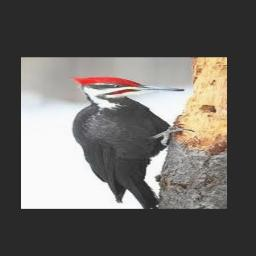Woodpecker: (73, 77, 194, 208)
